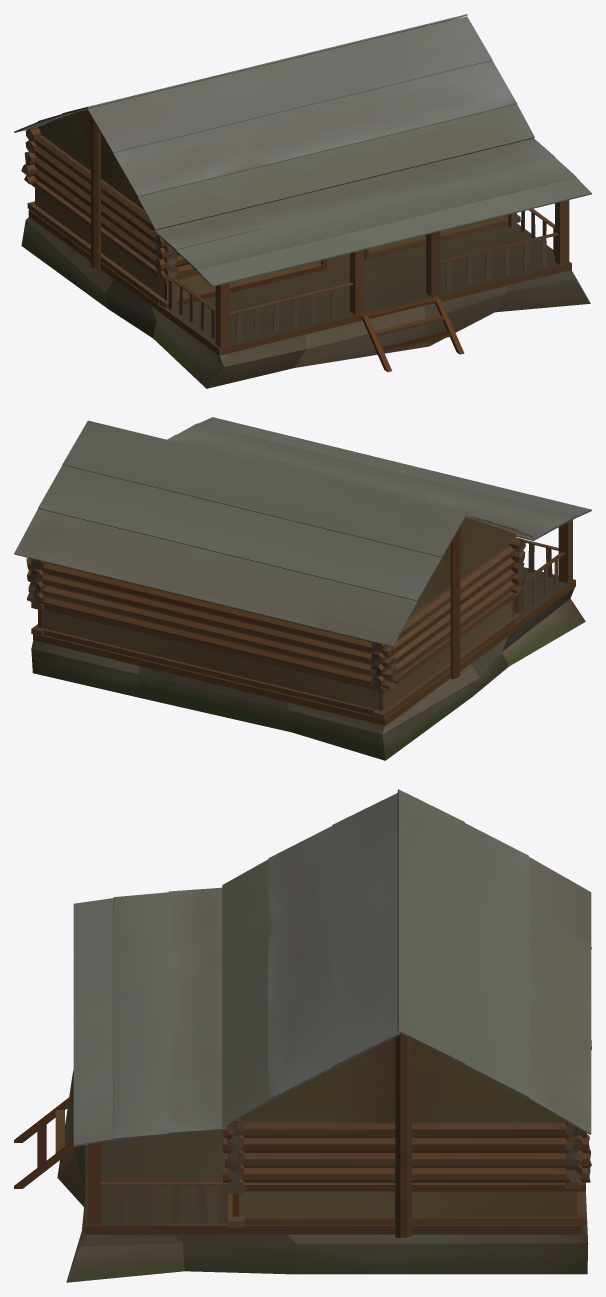
File: mayor_house.fbx
3 renders of one model, top to bottom at view 1: azimuth 30°, elevation 25°; view 2: azimuth 150°, elevation 25°; view 3: azimuth 270°, elevation 25°, orthographic. The views are drawn at different scales.
Visible parts, largest first — view 1: House1Roof, House1; view 2: House1Roof, House1; view 3: House1Roof, House1.
Part boxes in pixels (<box>): House1Roof: <box>14,14,591,286</box>; House1: <box>21,116,590,388</box>; House1Roof: <box>14,417,591,646</box>; House1: <box>26,520,585,760</box>; House1Roof: <box>73,789,591,1146</box>; House1: <box>14,947,591,1282</box>.
Size of the model in its own units: 568 by 280 by 575.
